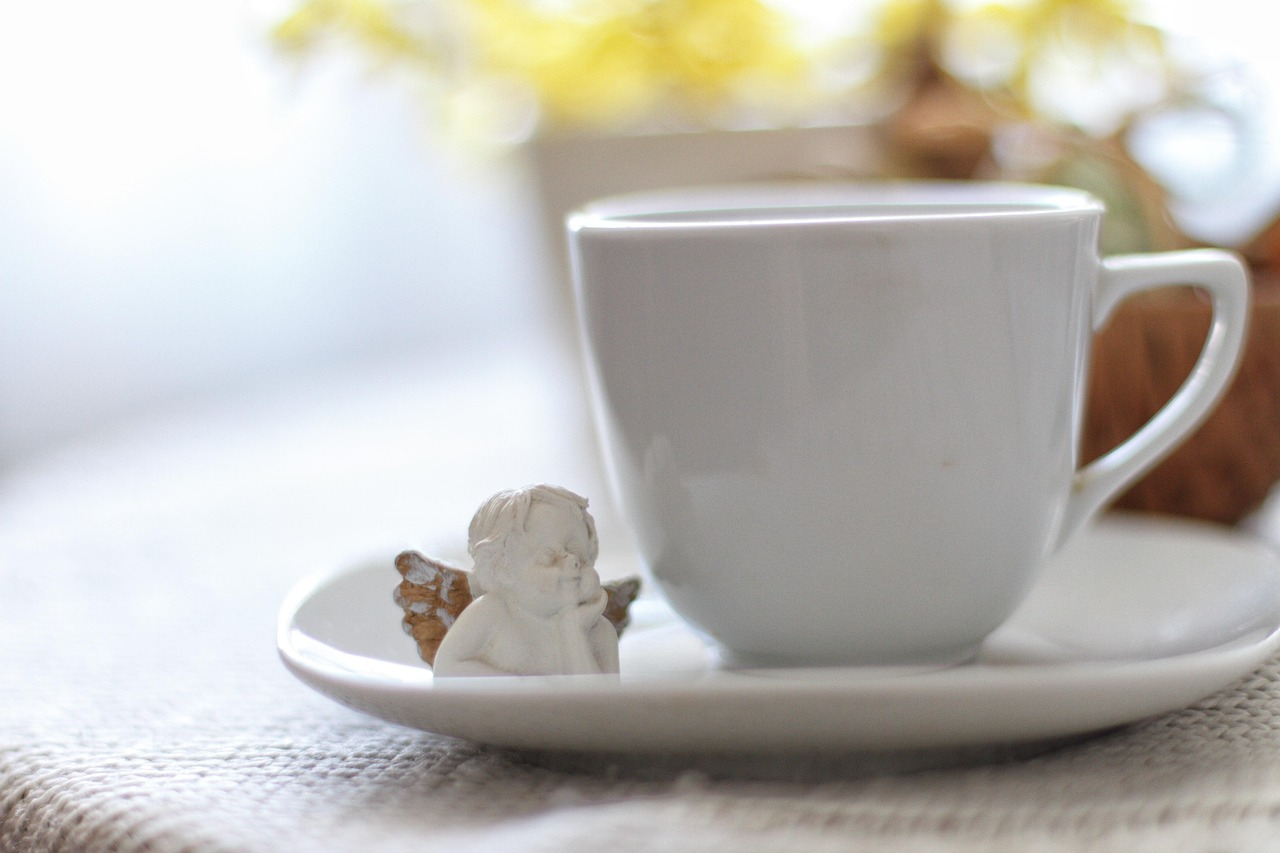mug: (550, 177, 1256, 682)
